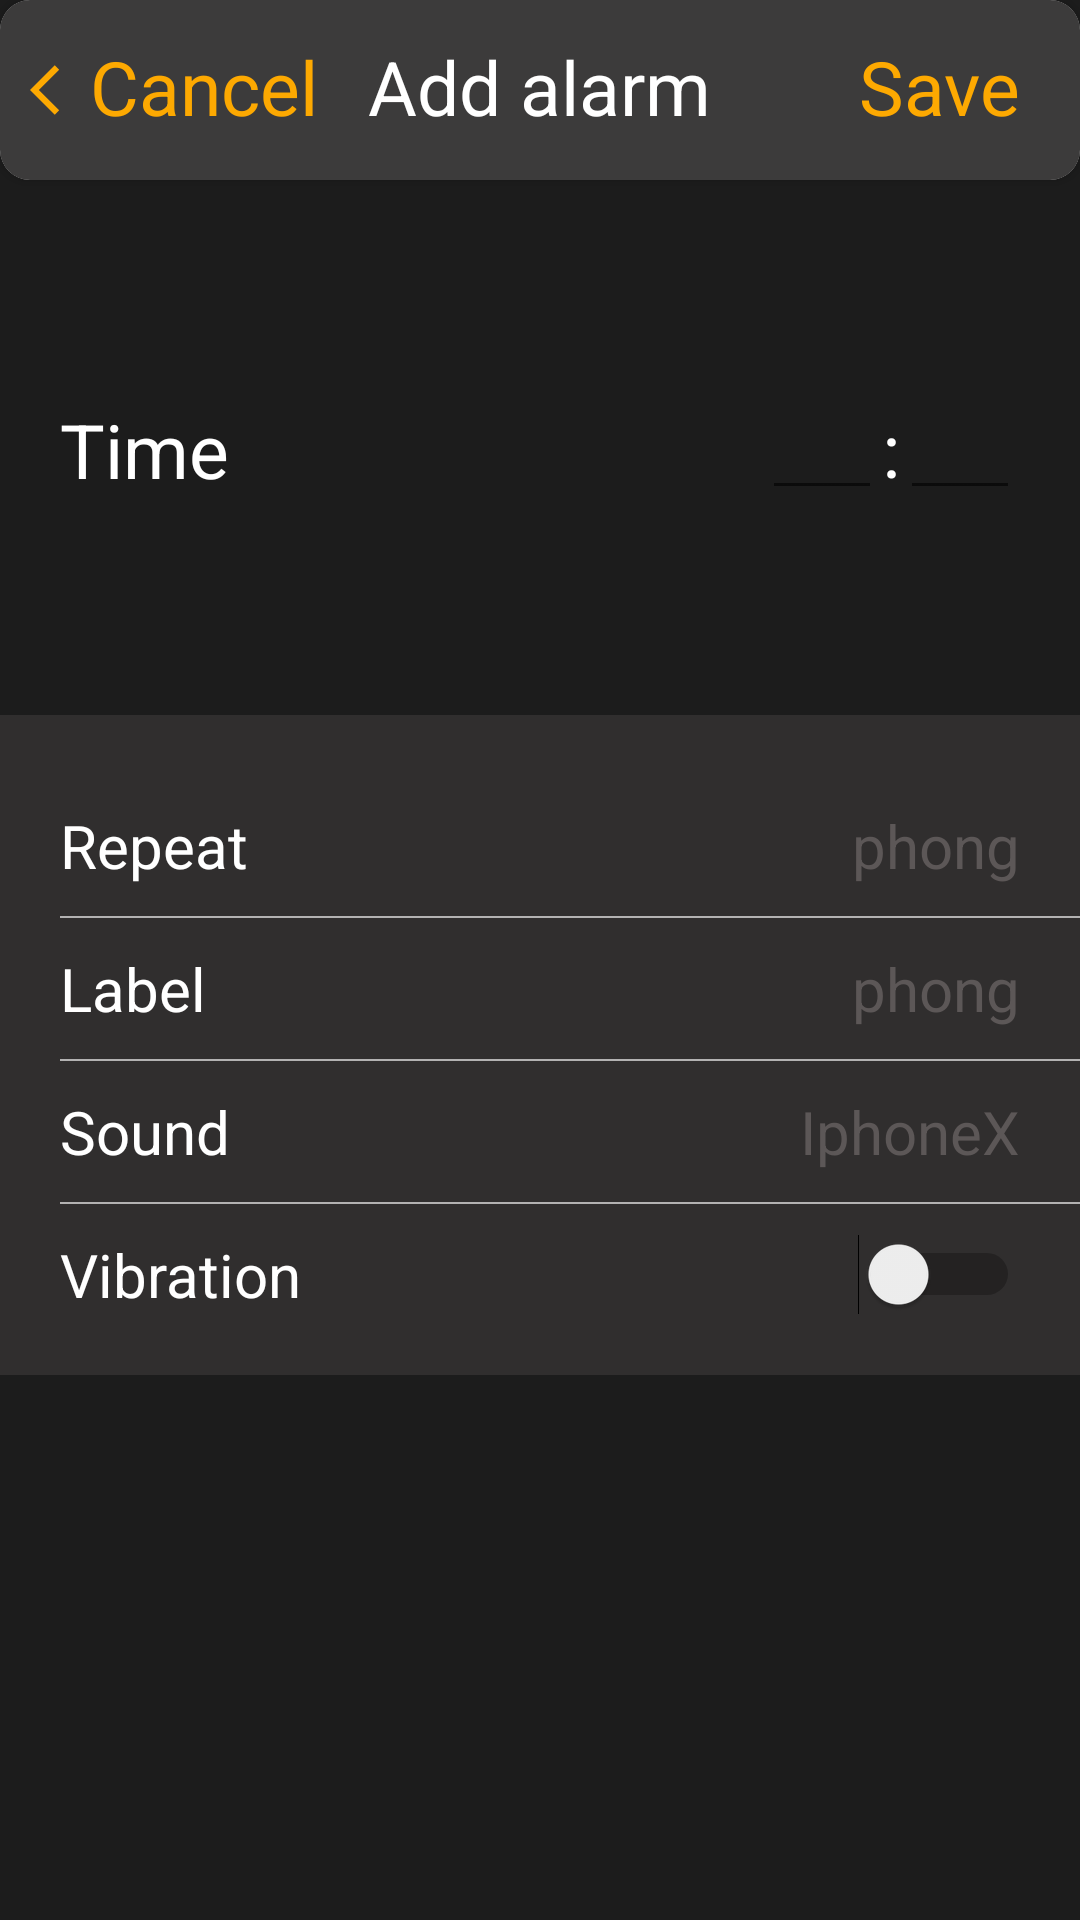

Icon bounding boxes for this 1080 × 1920 phone screenshot, format [left=x1, top=y1, right=x2, bottom=y2]:
arrow back: [left=30, top=65, right=59, bottom=115]
